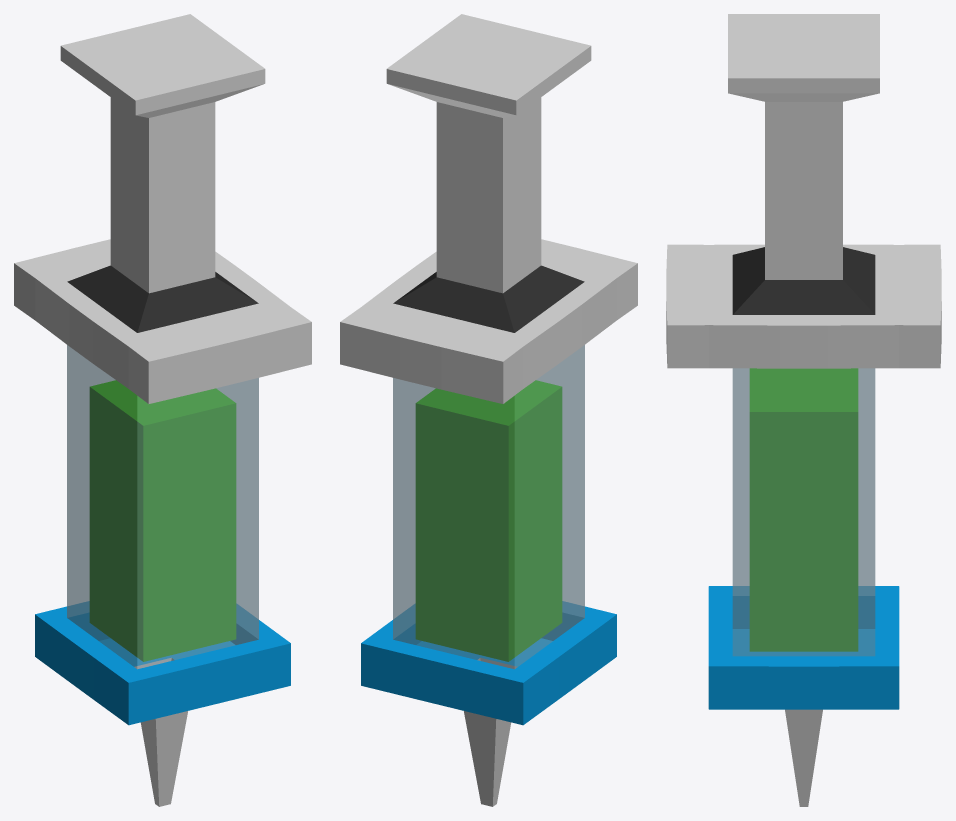
Rendered from Injection.fbx.
3 renders of one model, left to right at view 1: azimuth 30°, elevation 25°; view 2: azimuth 150°, elevation 25°; view 3: azimuth 270°, elevation 25°, orthographic.
Visible parts, largest first — view 1: pCube3; view 2: pCube3; view 3: pCube3.
Part boxes in pixels (x1,y1,x2,y2): pCube3: (14, 14, 311, 806); pCube3: (340, 14, 637, 806); pCube3: (666, 14, 941, 806).
Size of the model in its own units: 1.35 by 5.87 by 1.93.
